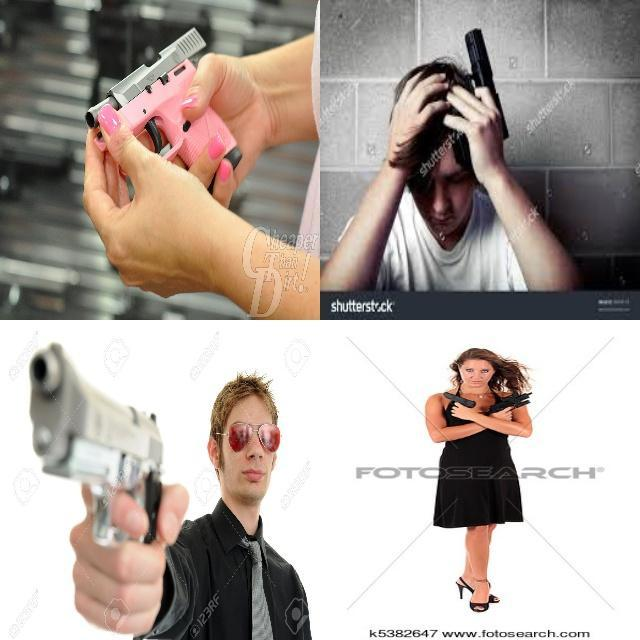gun-knife-thesis - v11 Yolov5 augmented: (22, 346, 159, 631), (82, 20, 243, 188), (441, 20, 513, 165), (484, 388, 533, 418), (439, 387, 474, 415)
